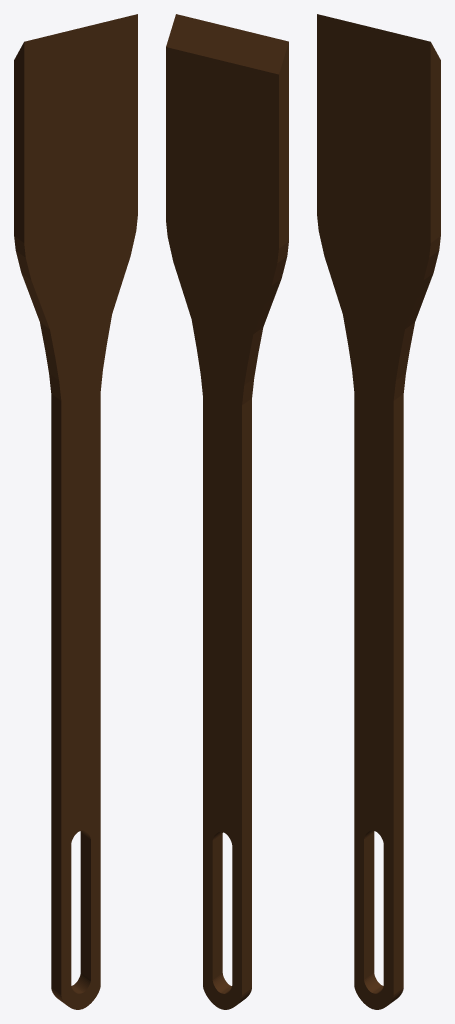
Rendered from Spatula.fbx.
The picture shows the model from 3 angles, left to right: view 1: azimuth 30°, elevation 25°; view 2: azimuth 150°, elevation 25°; view 3: azimuth 330°, elevation 25°; orthographic projection.
Visible parts, largest first — view 1: Cube; view 2: Cube; view 3: Cube.
Part boxes in pixels (<box>): Cube: <box>14,14,137,1009</box>; Cube: <box>166,14,288,1009</box>; Cube: <box>317,14,440,1009</box>.
Bounding box in the file's own units: 261 × 2149 × 40.16.
